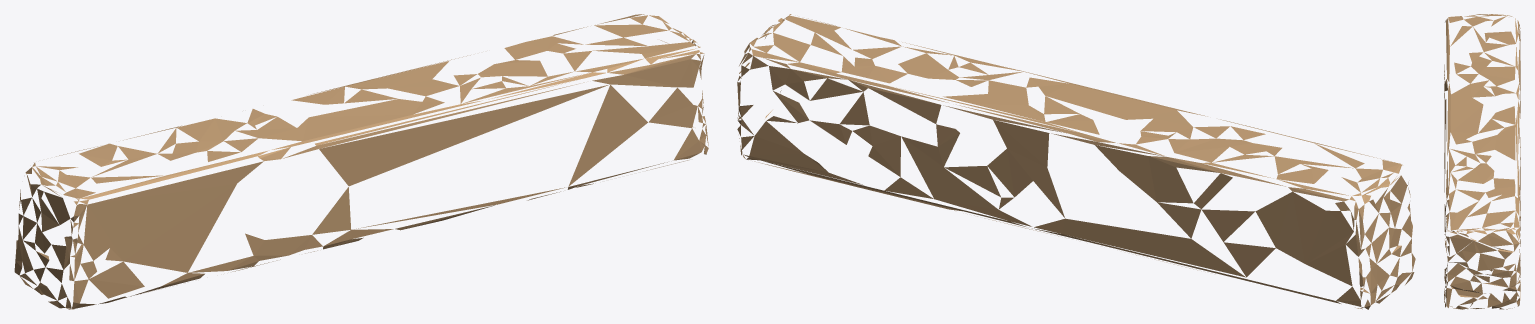
Rendered from stationary_pastel_mint_a01.glb.
The picture shows the model from 3 angles, left to right: view 1: azimuth 30°, elevation 25°; view 2: azimuth 150°, elevation 25°; view 3: azimuth 270°, elevation 25°; orthographic projection. The views are drawn at different scales.
Parts seen in each view (by area): view 1: geometry_0; view 2: geometry_0; view 3: geometry_0.
Boxes of the visible parts, bbox=[...] form: geometry_0: bbox=[14, 14, 708, 309]; geometry_0: bbox=[737, 14, 1415, 309]; geometry_0: bbox=[1444, 14, 1520, 309].
Size of the model in its own units: 0.48 by 0.0809 by 0.0699.
